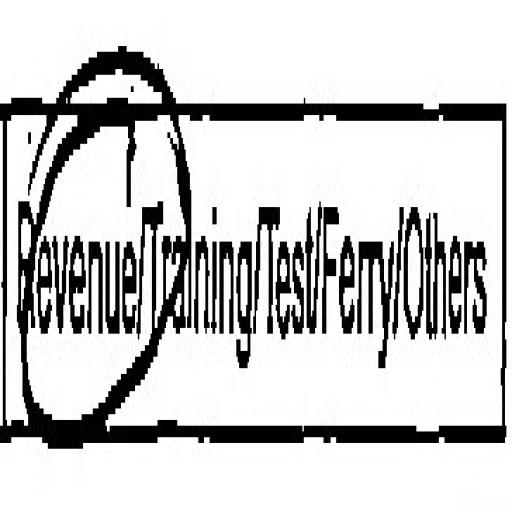check: (2, 0, 142, 512)
